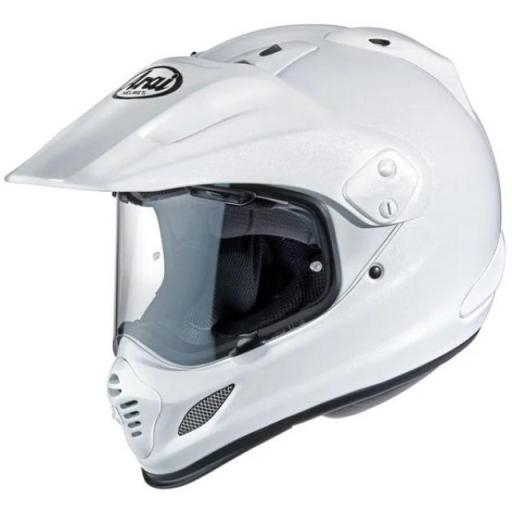Helmet: (27, 24, 501, 503)
